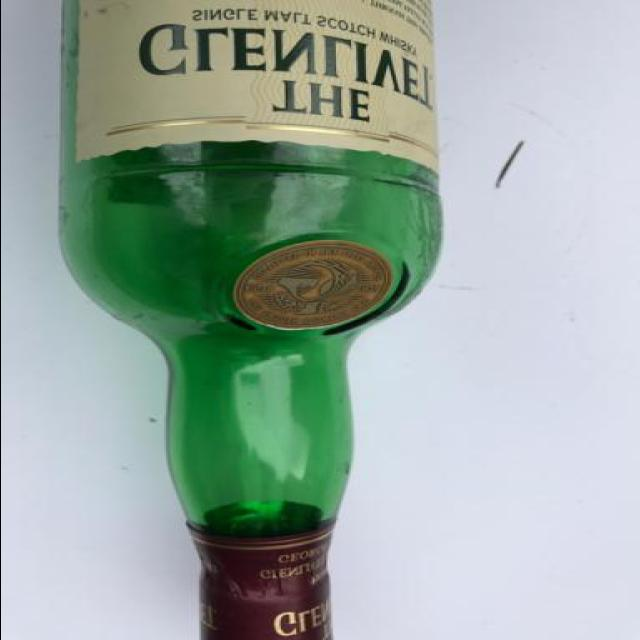glass: (46, 0, 478, 640)
